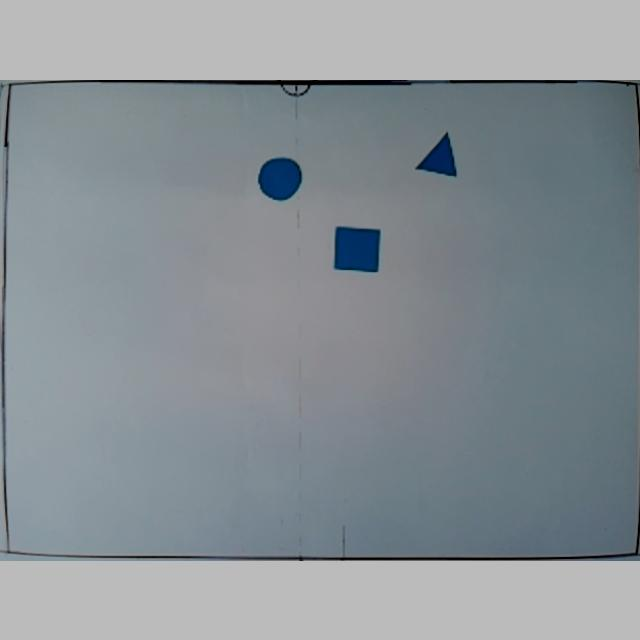blueCircle: (256, 156, 304, 200)
blueSquare: (330, 224, 382, 272)
blueTriangle: (417, 130, 458, 174)
